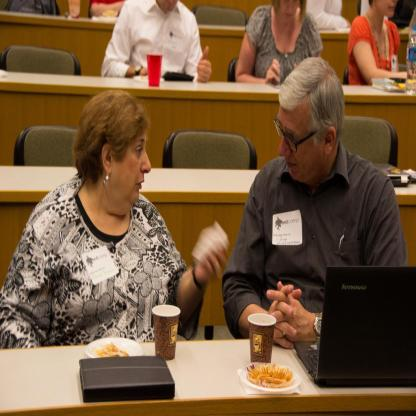board: (293, 260, 415, 387), (152, 303, 180, 360), (248, 314, 277, 363), (407, 28, 416, 94), (147, 50, 162, 88)
